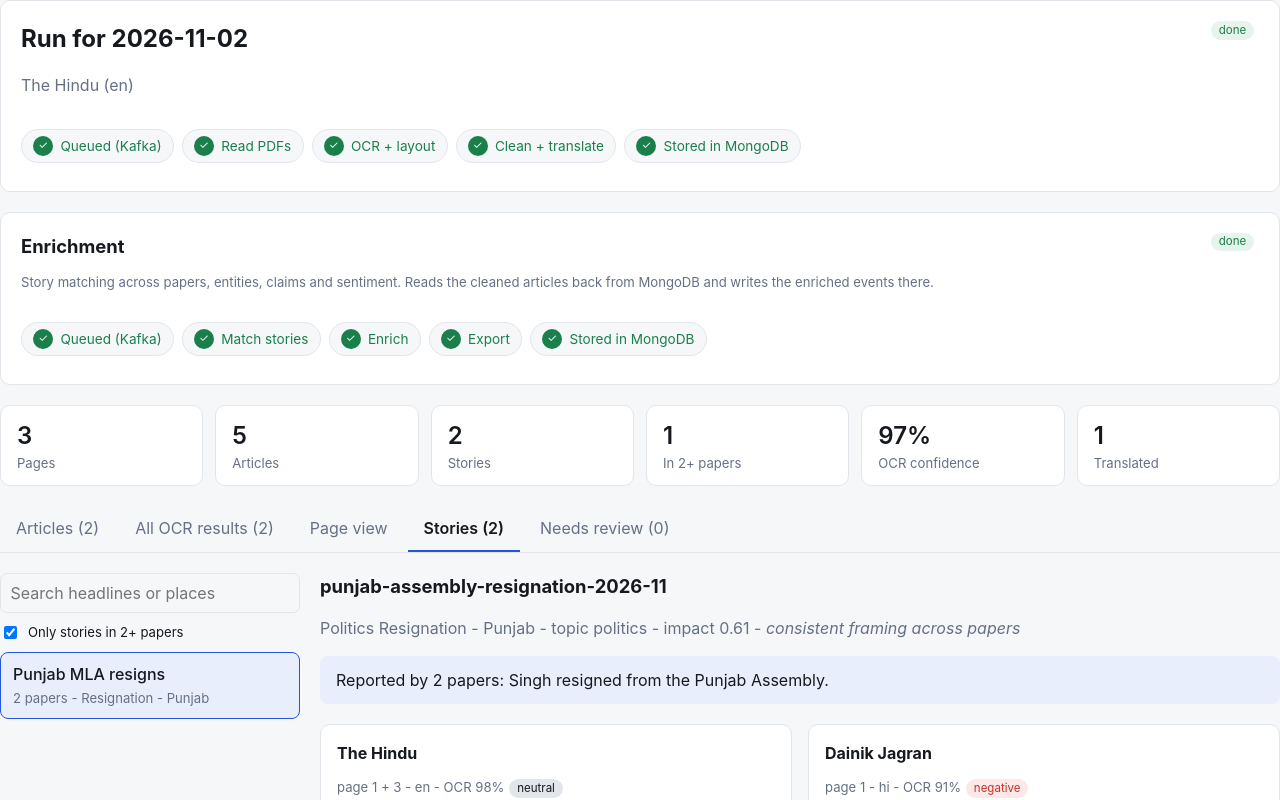
Test case: RunPage › lists multi-paper stories first, hides single-paper ones until toggled, and searches
The image size is (1280, 800).
Click the checkbox labelled "Only stories in 2+ papers": [10, 632] box [4,626,17,639]
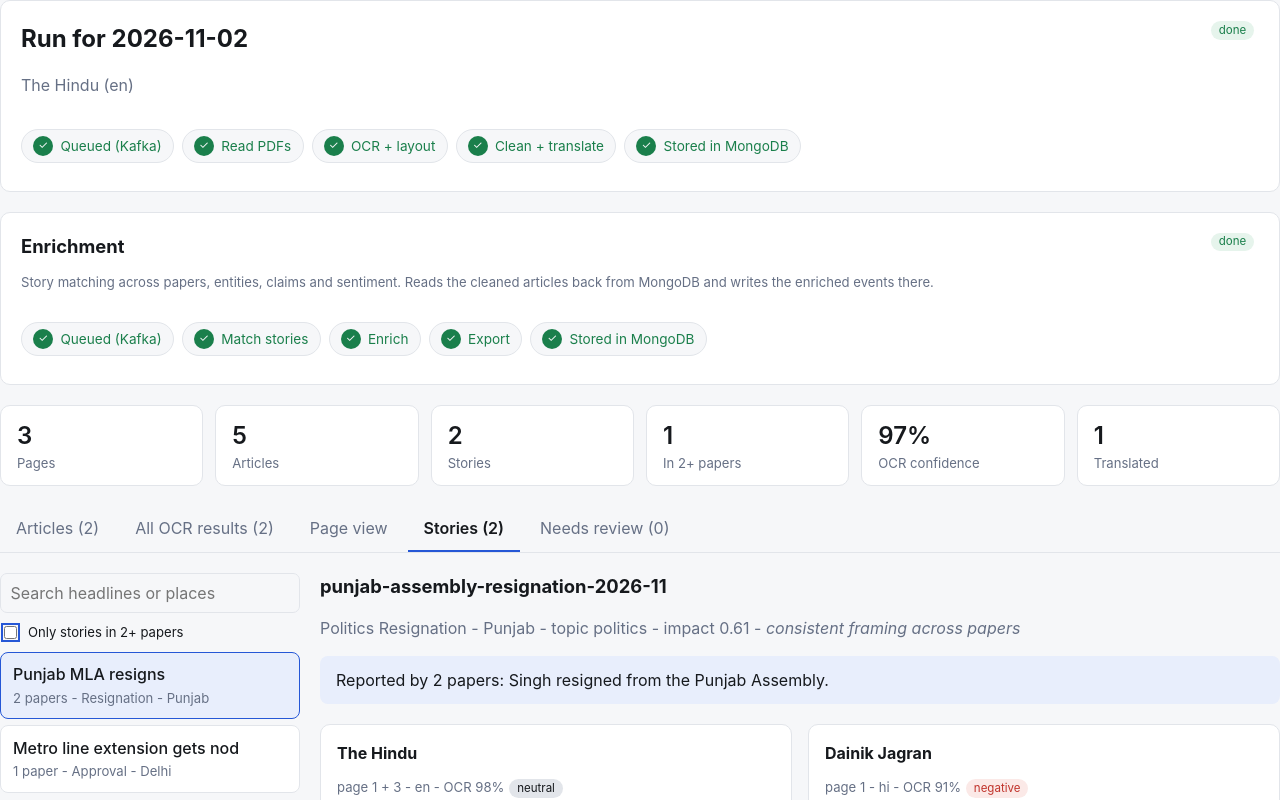
In the search field named "Search stories": [150, 593] box [0,572,300,613], type "metro"
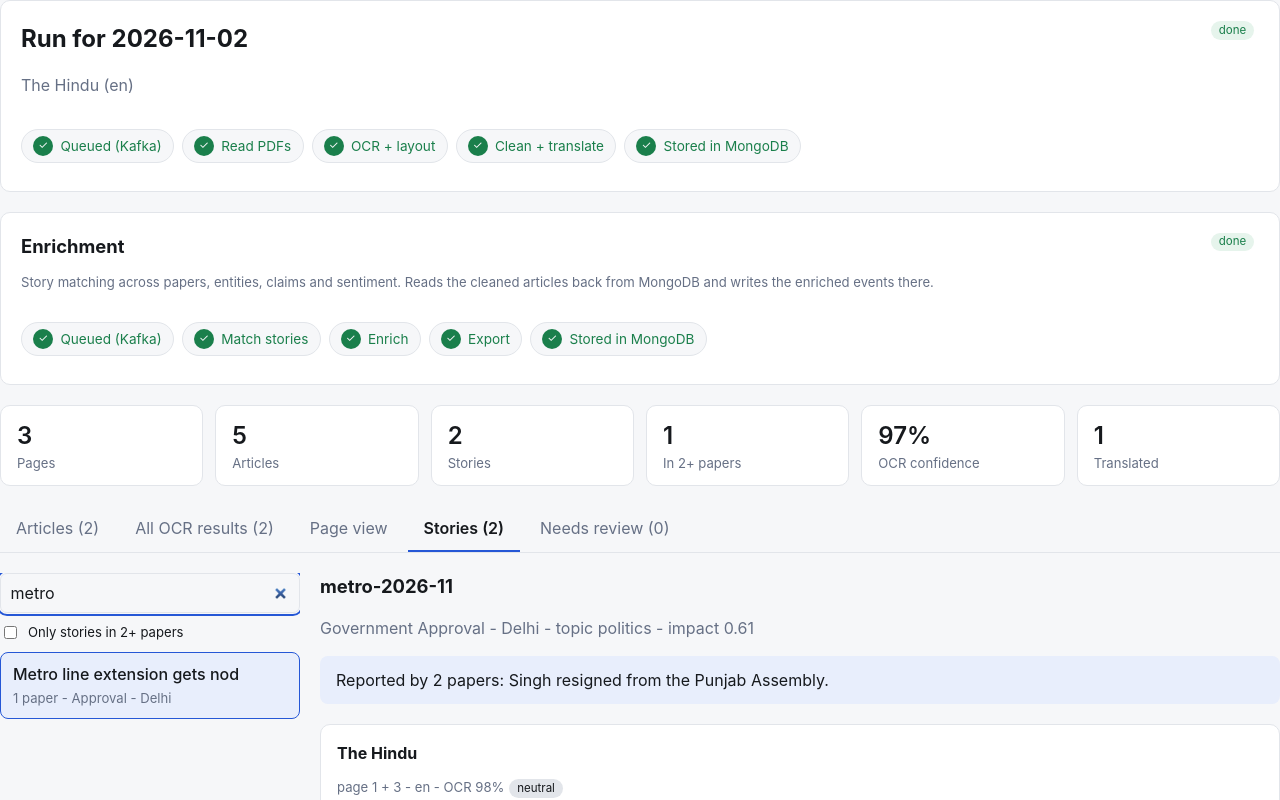
Now the text "Metro line extension gets nod" is shown, box [13,664,239,684]
Replace the text in the search field named "Search stories" with "zzz": [150, 593] box [0,572,300,613]
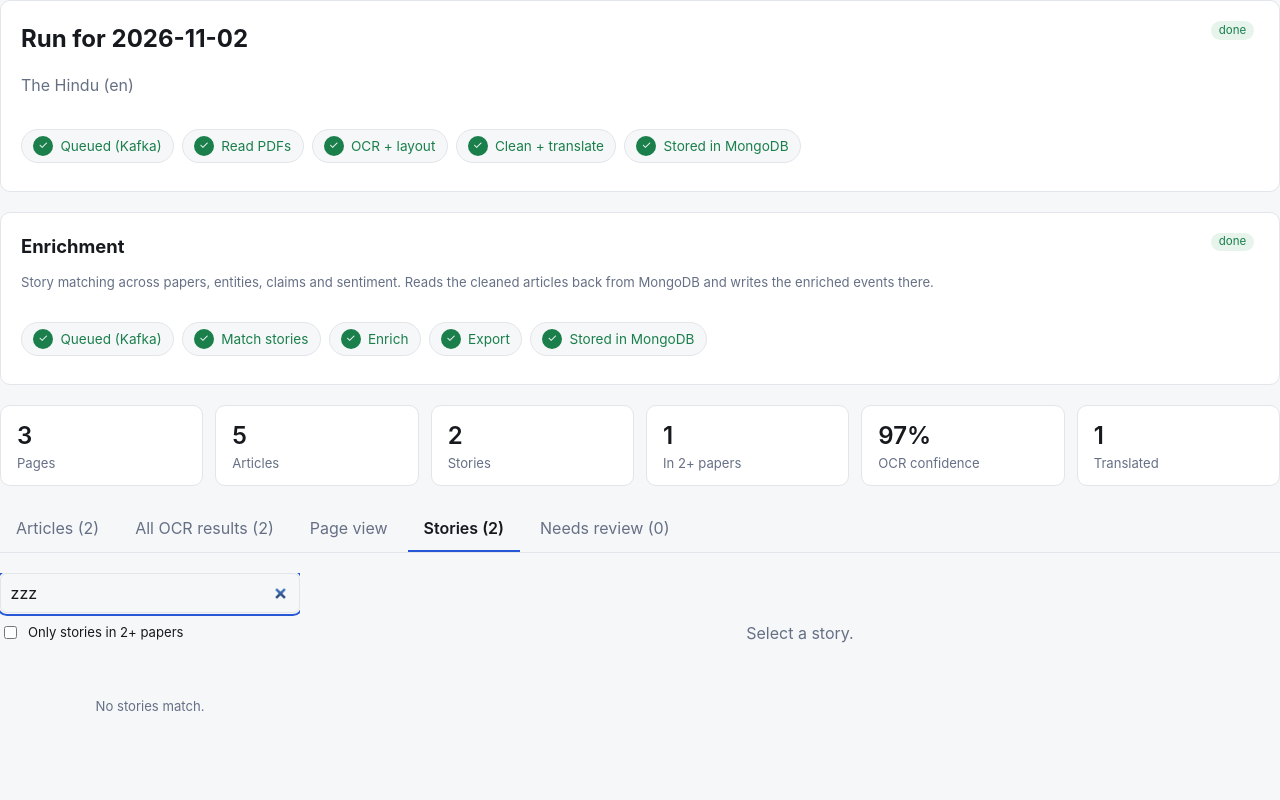
Now the text "No stories match." is shown, box [96,698,204,714]
